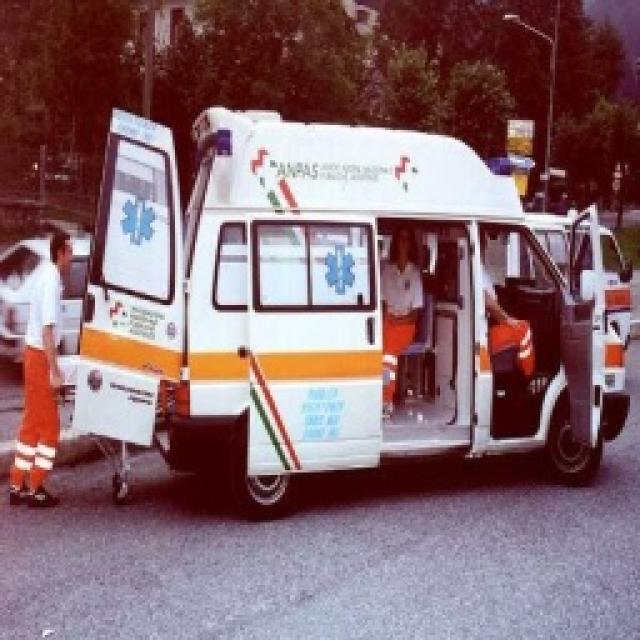emergency-vehicle: (78, 106, 622, 502)
